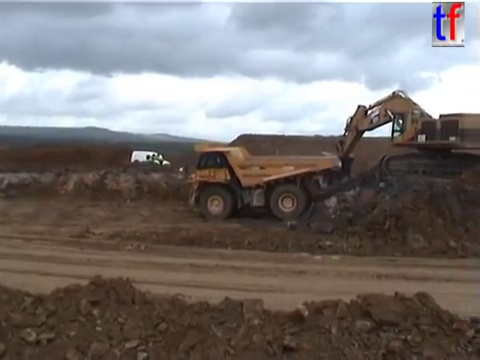excavator: (318, 88, 480, 191)
truck: (177, 141, 343, 222)
worker: (155, 150, 164, 170), (149, 150, 156, 169)
